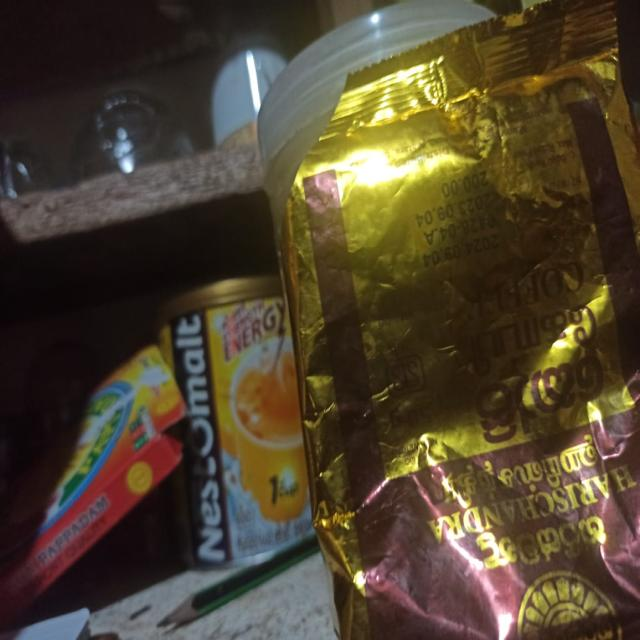Harischandra Coffee: (265, 88, 640, 639)
